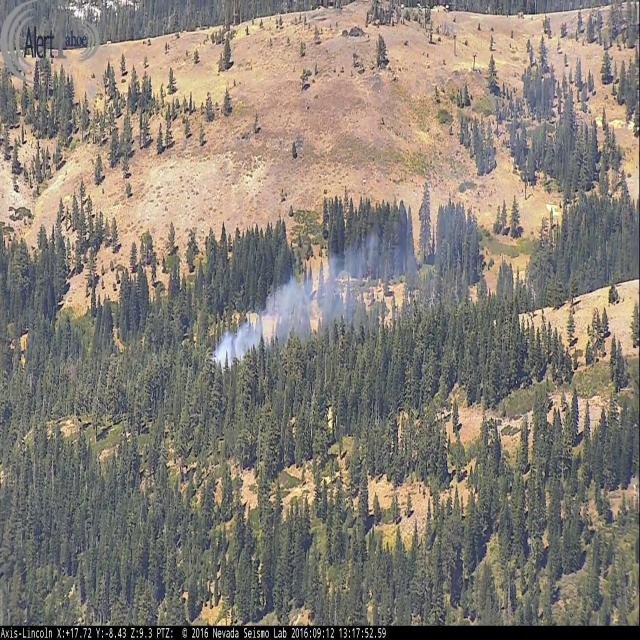smoke: (210, 40, 585, 369)
